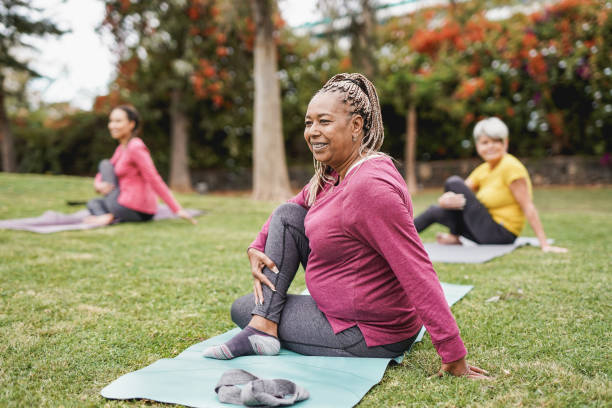without mask: (300, 88, 366, 166), (462, 123, 518, 179), (100, 102, 151, 153)
